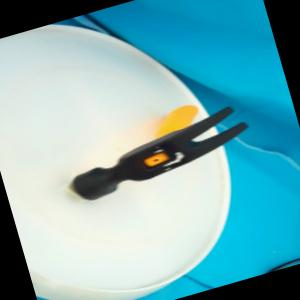martelo: (58, 87, 258, 204)
